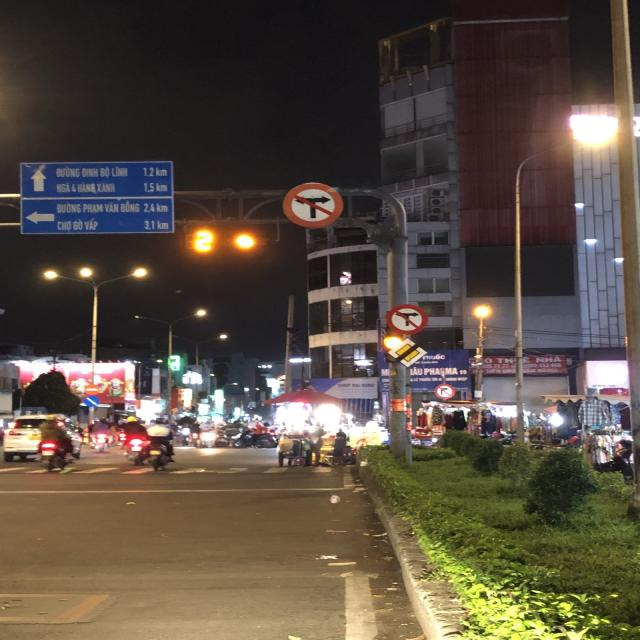Bien bao cam re phai: (434, 383, 456, 400)
